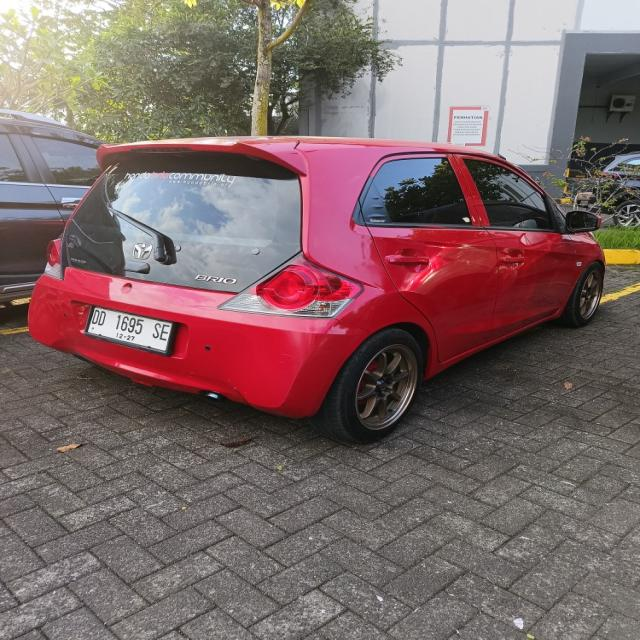plates: (88, 309, 184, 352)
